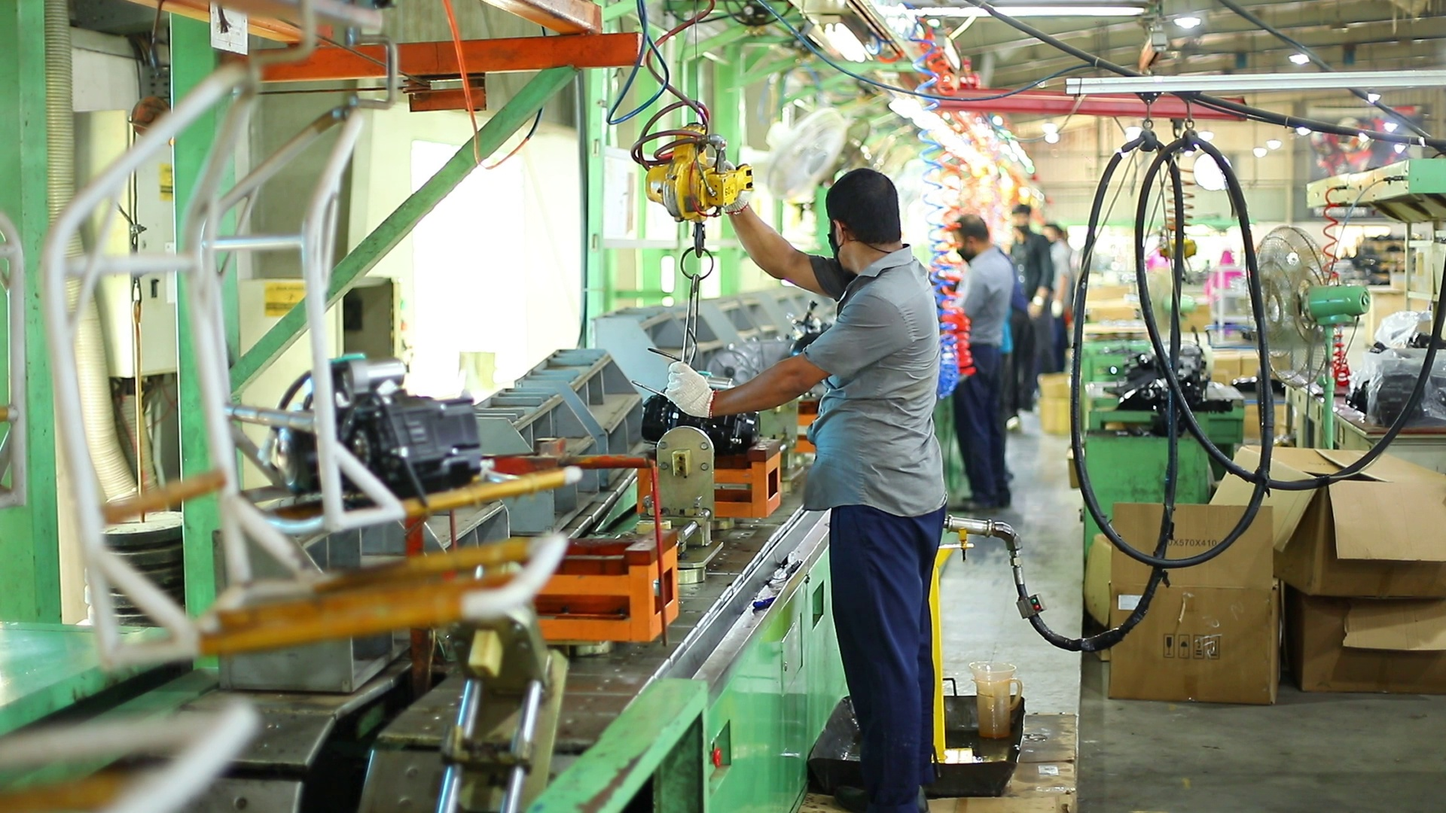mask: (827, 219, 845, 260), (953, 245, 971, 263)
person: (666, 167, 947, 813), (943, 214, 1014, 511), (1005, 204, 1057, 415), (1041, 223, 1076, 373)
